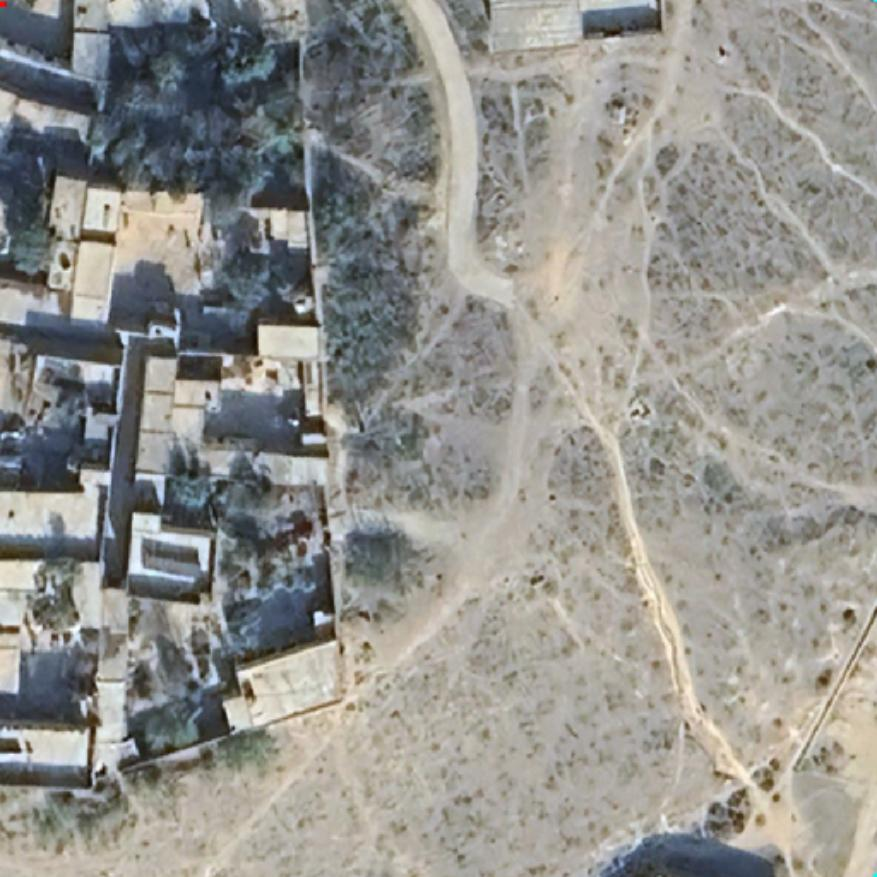Solarpanel: (140, 549, 206, 584)
